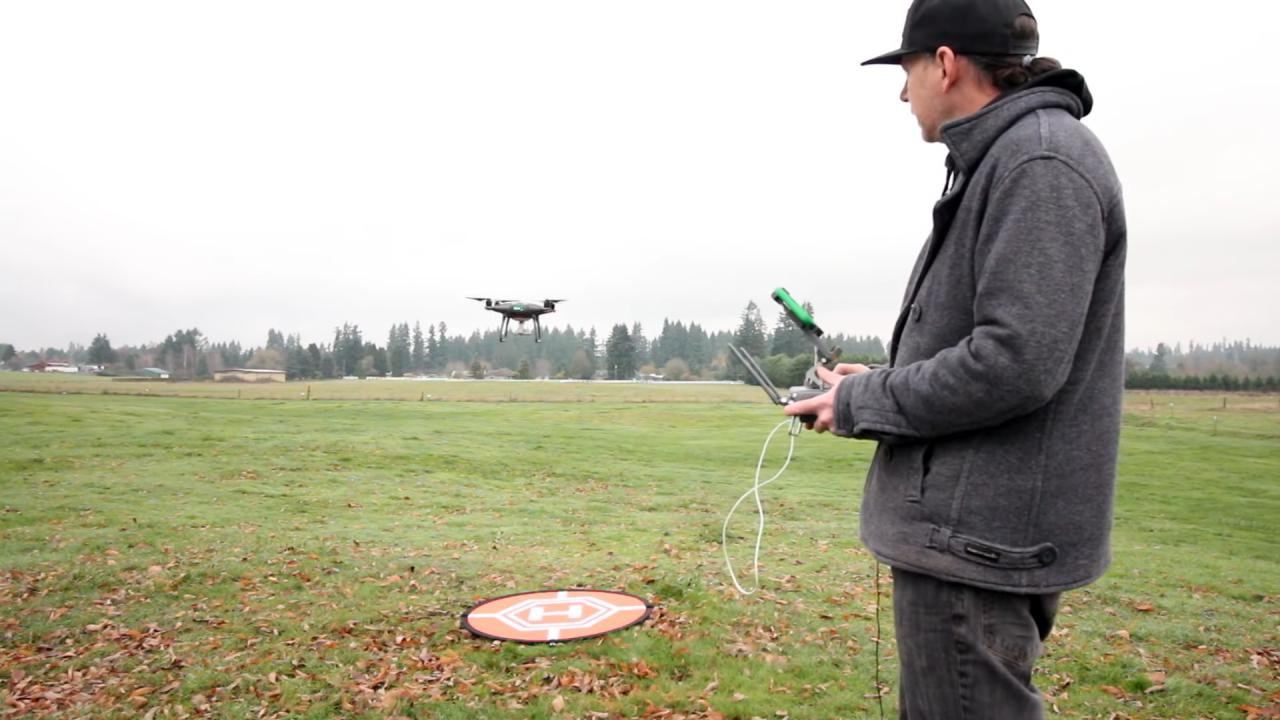Drone: (457, 284, 575, 351)
